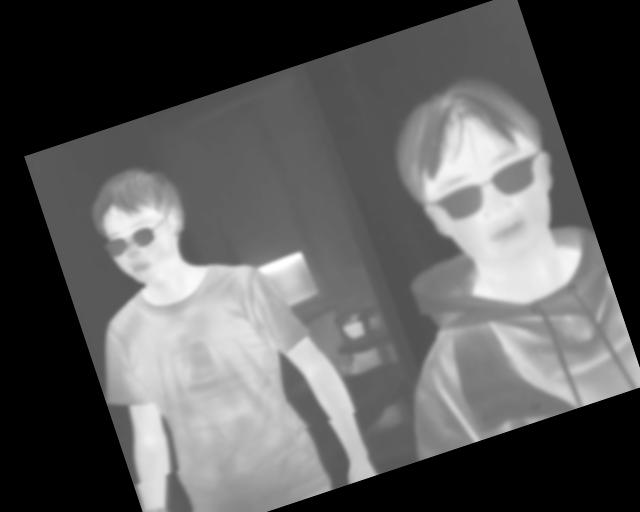face: (377, 61, 579, 287), (82, 156, 201, 292)
